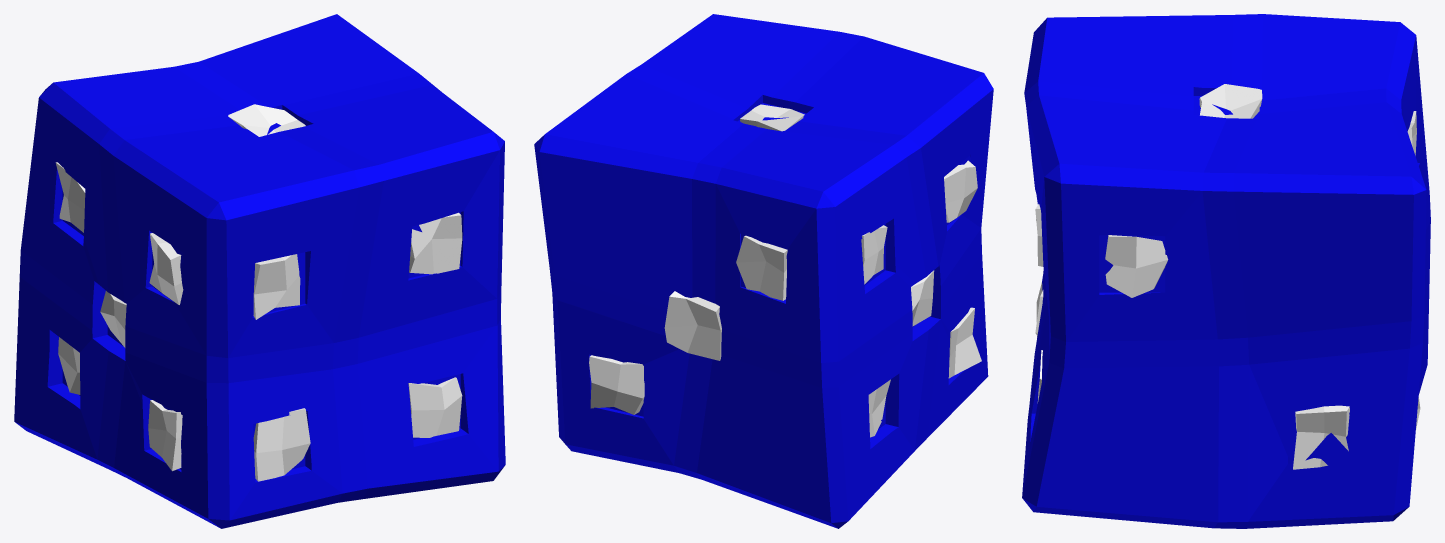
Rendered from 7_dice_blue_ugly.gltf.
The picture shows the model from 3 angles, left to right: view 1: azimuth 30°, elevation 25°; view 2: azimuth 150°, elevation 25°; view 3: azimuth 270°, elevation 25°; orthographic projection. The views are drawn at different scales.
Parts seen in each view (by area): view 1: D6_Dice_Blue; view 2: D6_Dice_Blue; view 3: D6_Dice_Blue.
Boxes of the visible parts, left/top/right/bottom form: D6_Dice_Blue: left=14, top=14, right=505, bottom=528; D6_Dice_Blue: left=534, top=14, right=993, bottom=528; D6_Dice_Blue: left=1022, top=14, right=1430, bottom=528.
Size of the model in its own units: 2.14 by 2.18 by 2.17.
